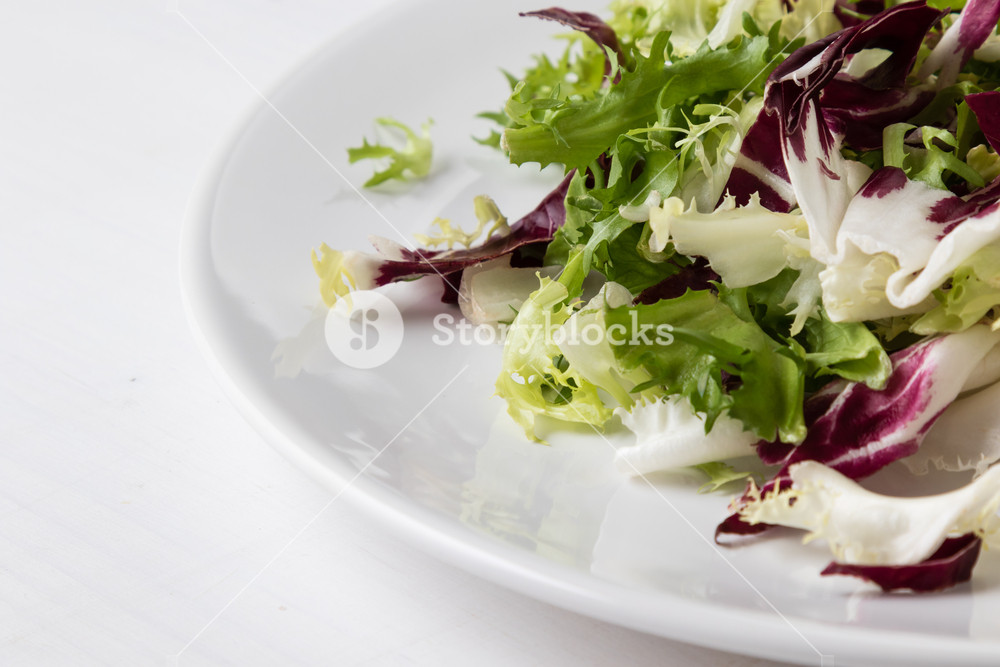chopped lettuce: (567, 59, 915, 471)
